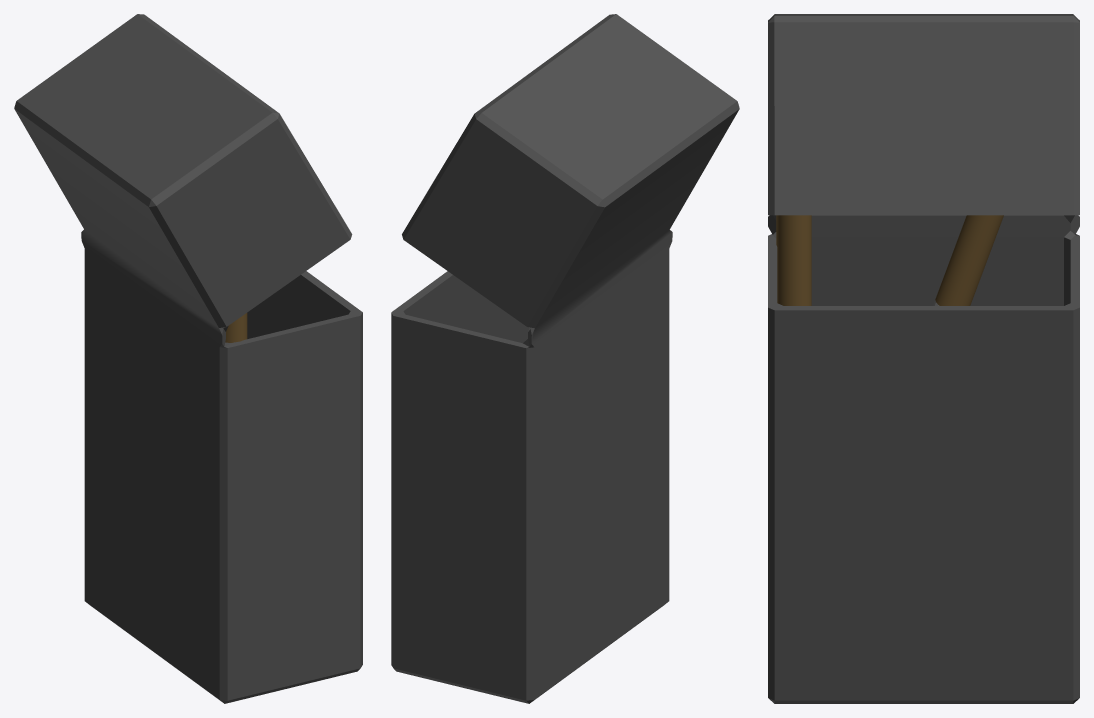
Rendered from Cigarette Packet.fbx.
3 renders of one model, left to right at view 1: azimuth 30°, elevation 25°; view 2: azimuth 150°, elevation 25°; view 3: azimuth 270°, elevation 25°, orthographic. The views are drawn at different scales.
Visible parts, largest first — view 1: pCube1; view 2: pCube1; view 3: pCube1, pCylinder2, pCylinder1.
Boxes of the visible parts, box(x1,y1,x2,y2) form: pCube1: box(14, 14, 362, 703); pCube1: box(391, 14, 739, 703); pCube1: box(768, 14, 1079, 703); pCylinder2: box(933, 215, 1003, 305); pCylinder1: box(776, 215, 811, 305).
Bounding box in the file's own units: 3.03 × 7.85 × 3.45.
